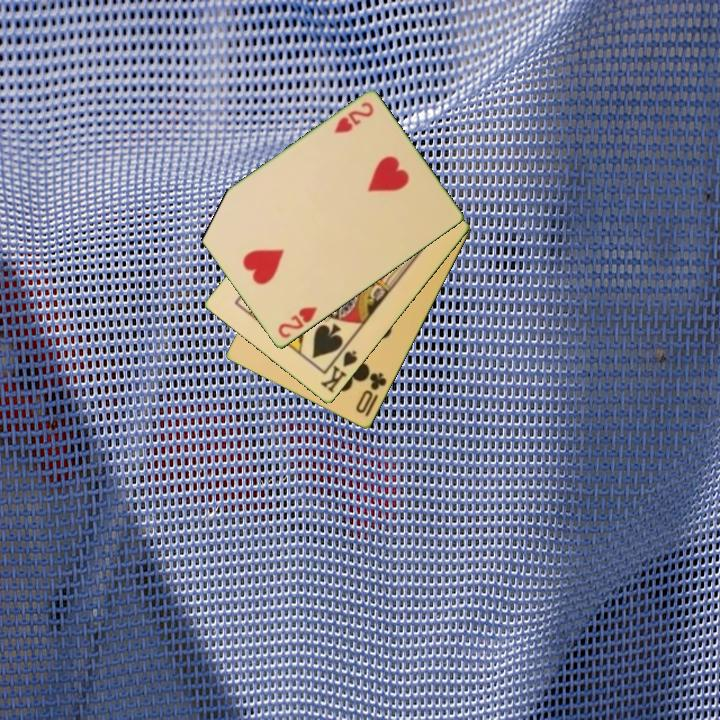10c: (352, 369, 390, 417)
2h: (274, 303, 321, 342), (330, 99, 377, 137)
Ks: (317, 342, 360, 396)
